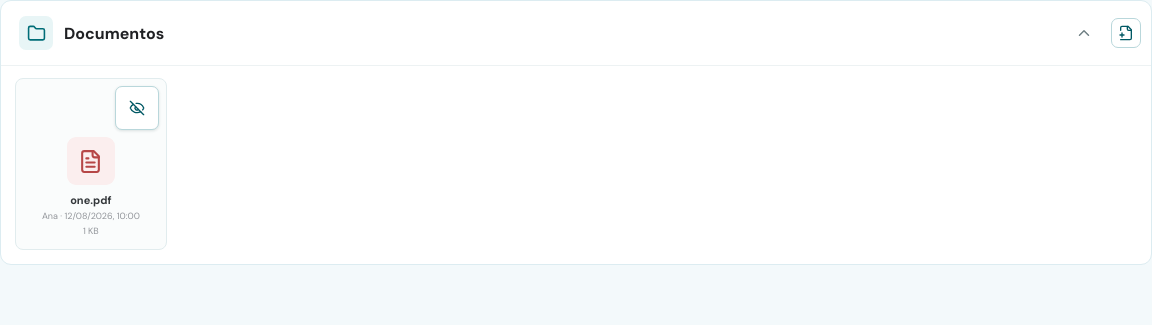
ProjectDocuments › restores hidden state and reports a Portuguese error when visibility fails
What coordinates should you click on to do the following:
click the button named "Mostrar one.pdf aos clientes"
I would click on:
 (137, 108)
Its box is [115,86,159,130].
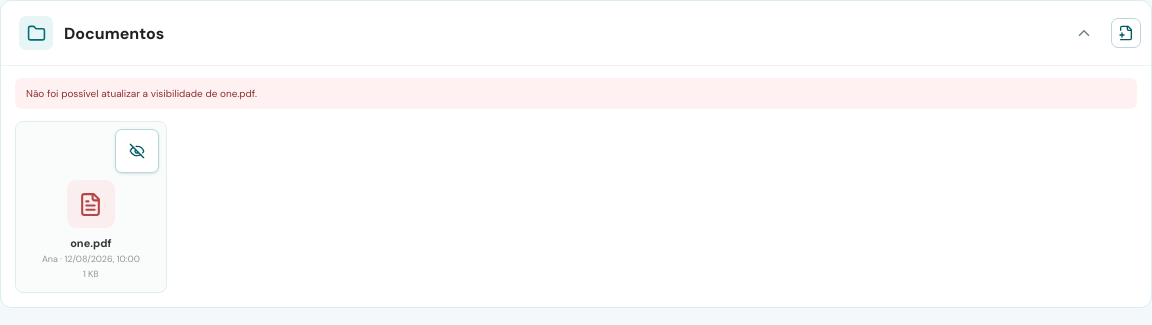
Expected: the button named "Mostrar one.pdf aos clientes" is enabled, [115,129,159,173]
Expected: the message reads "Não foi possível atualizar a visibilidade de one.pdf.", [26,87,257,100]
